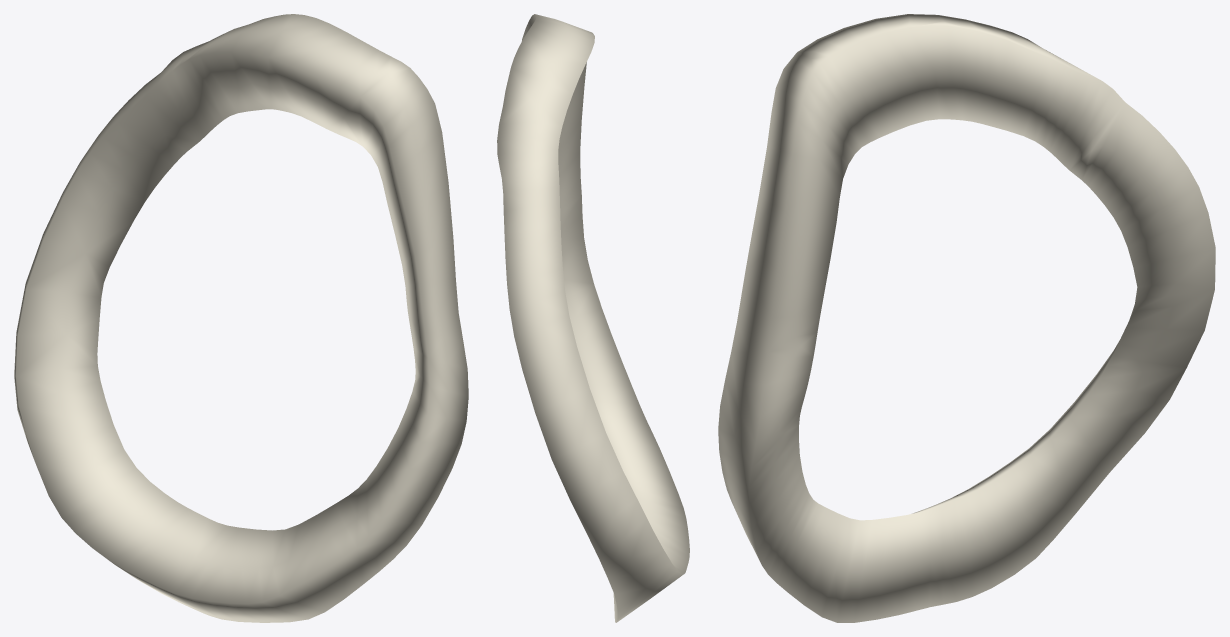
The picture shows the model from 3 angles, left to right: view 1: azimuth 30°, elevation 25°; view 2: azimuth 150°, elevation 25°; view 3: azimuth 270°, elevation 25°; orthographic projection. The views are drawn at different scales.
Parts seen in each view (by area): view 1: ZA_a04ee14caa0c1712; view 2: ZA_a04ee14caa0c1712; view 3: ZA_a04ee14caa0c1712.
Part boxes in pixels (x1,y1,x2,y2): ZA_a04ee14caa0c1712: [14, 14, 468, 622]; ZA_a04ee14caa0c1712: [497, 14, 689, 622]; ZA_a04ee14caa0c1712: [718, 14, 1215, 622].
Bounding box in the file's own units: 0.019 × 0.0358 × 0.0252.
